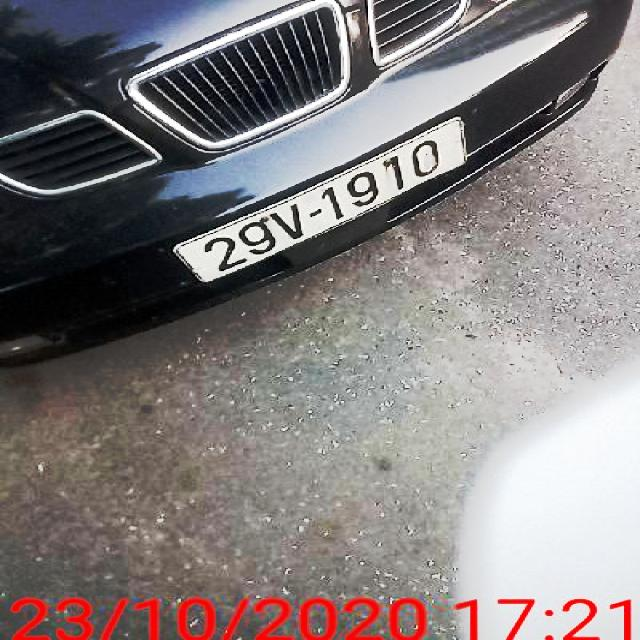license_plate: (179, 119, 466, 286)
